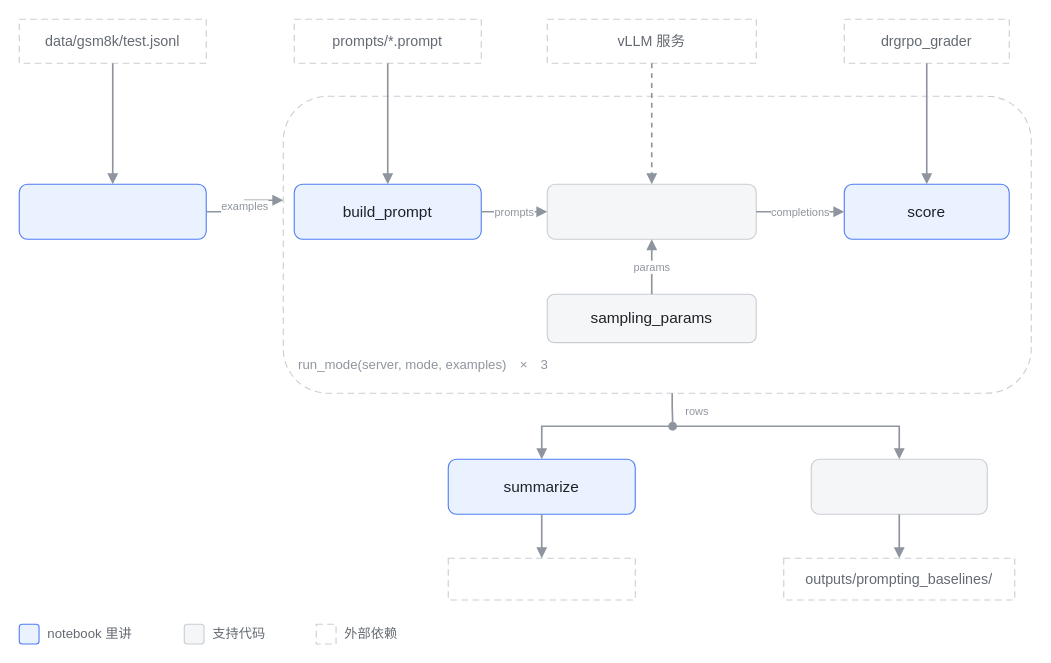
This 1051x663 diagram has some shape labels left out. Here are the shapes that lost their labels. From the top down, the centre of each, then its label:
the point at 112,211: load_gsm8k
the point at 651,211: generate_completions
the point at 898,486: dump
the point at 541,578: summary.json
